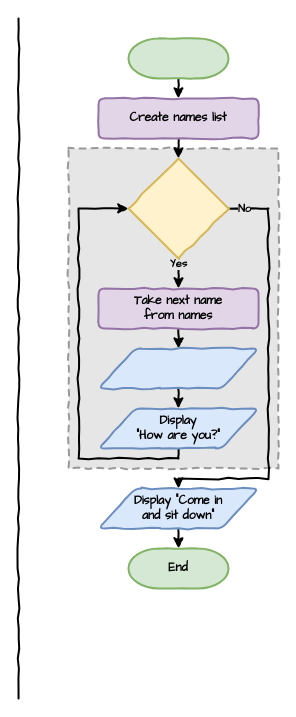
Image size: 296x717. Some labels were removed from this diagram. The shapes that lost their labels are listed below. From the top down, each one's centre as x and y in pixels, then its label:
(x=178, y=58): Begin
(x=178, y=208): Is there a next name?
(x=178, y=368): Display "Hello" name
